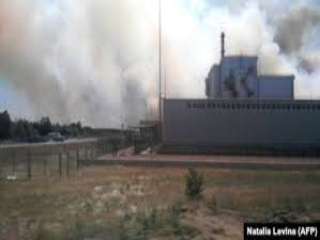smoke: (4, 9, 82, 124), (269, 8, 318, 75)
